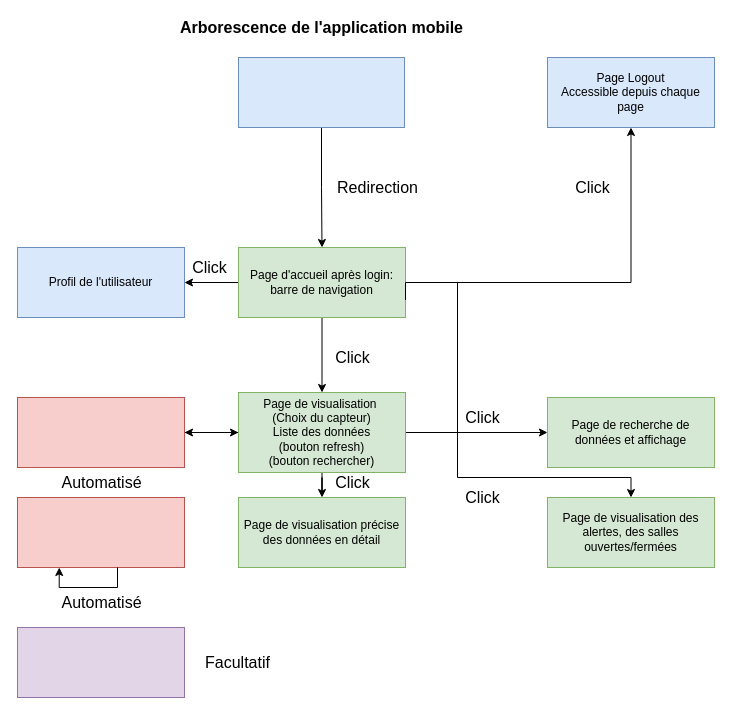
This 732x715 diagram has some shape labels left out. The shapes that lost their labels are listed below. From the top down, each one's box as (x1, y1, x2, y2) in pixels, then its label:
(238, 56, 404, 128): Page d'accueil : Login
(16, 396, 184, 468): Tâche de fond: Acquisition des données
(16, 496, 184, 568): Tâche de fond: Envoie de notification qui tourne X heure envoie de mail / notif
(16, 626, 184, 698): Si on a du temps: download des données via PDF
